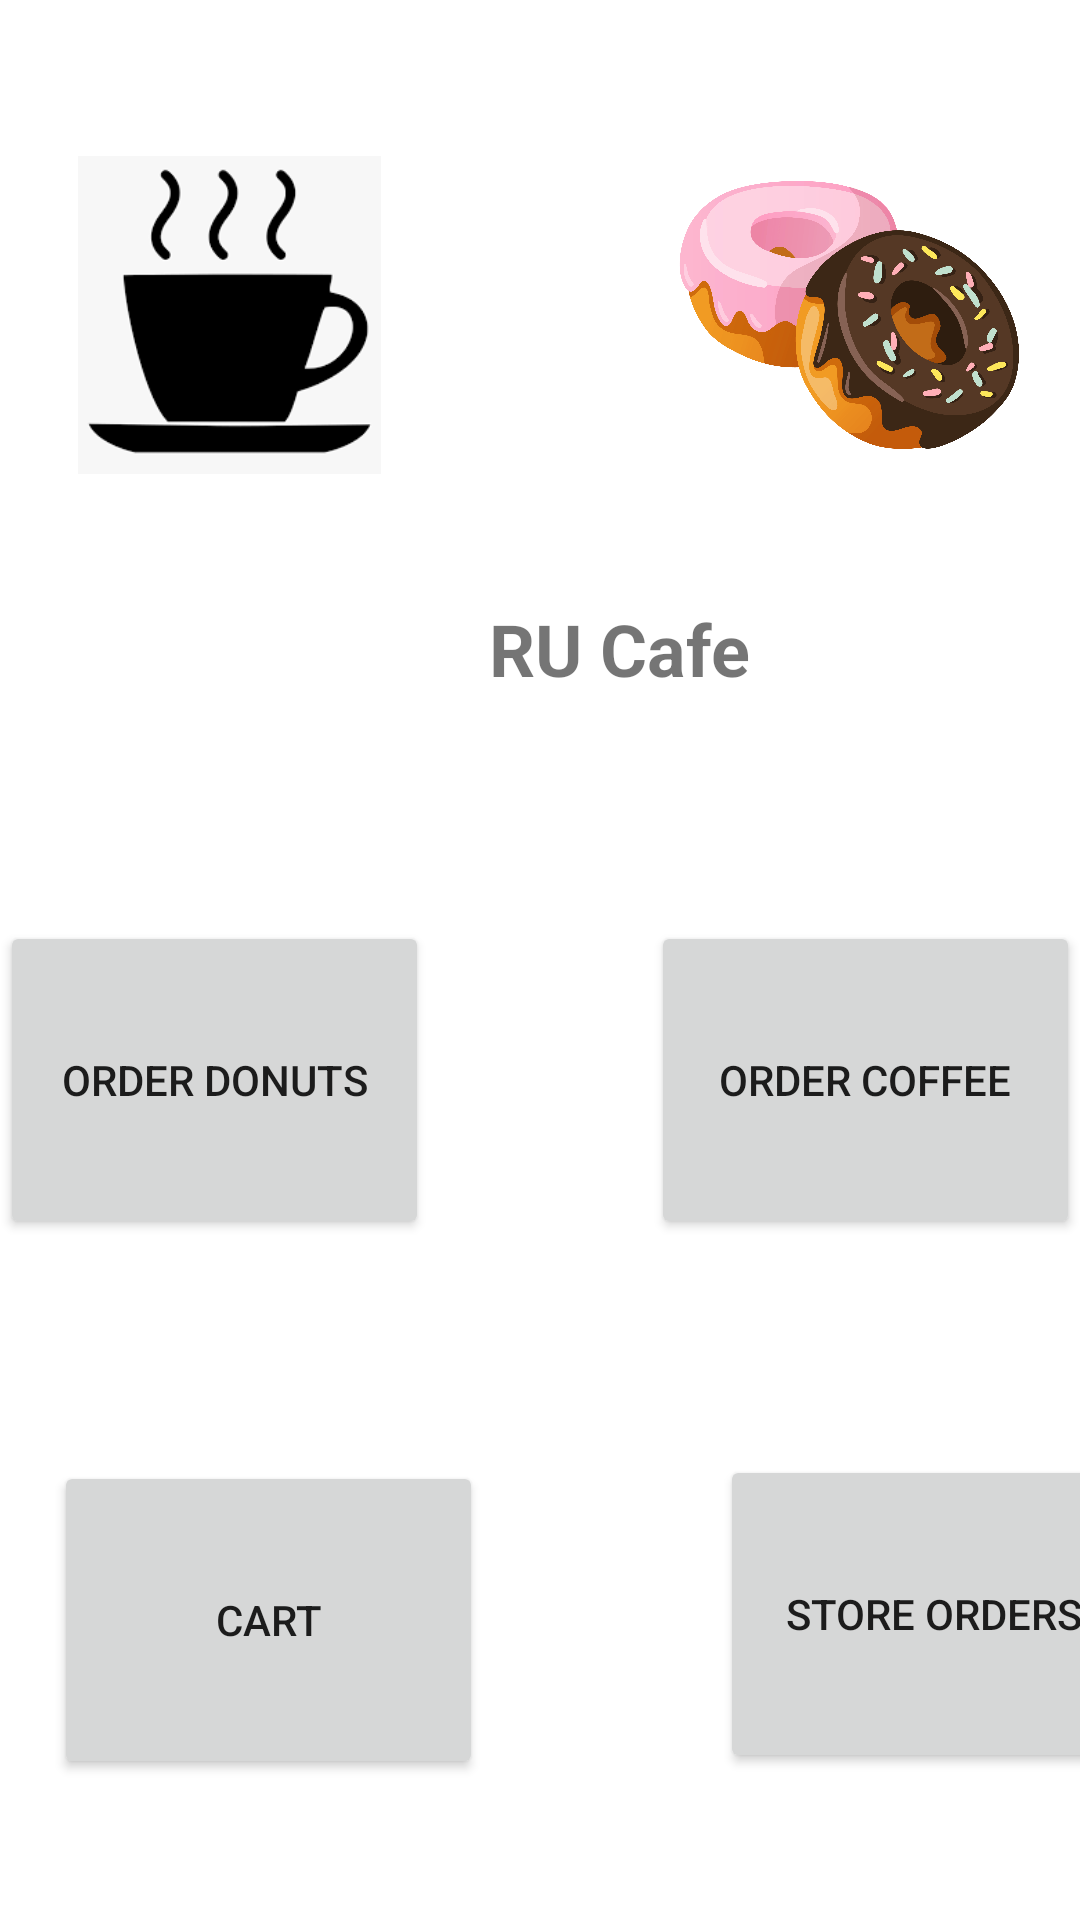

Screen size 1080 x 1920. Icon name, then its box in pixels as (x1, y1, x2, y2):
coffee: (88, 169, 371, 454)
donuts: (680, 181, 1019, 449)
